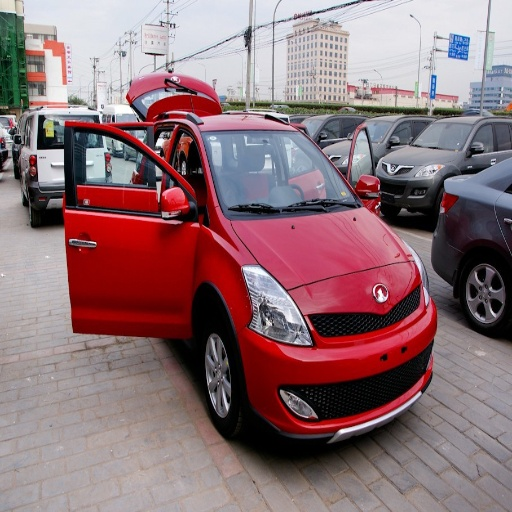front_bumper: (240, 265, 436, 438)
front_right_door: (87, 130, 199, 333)
front_right_light: (243, 266, 311, 346)
